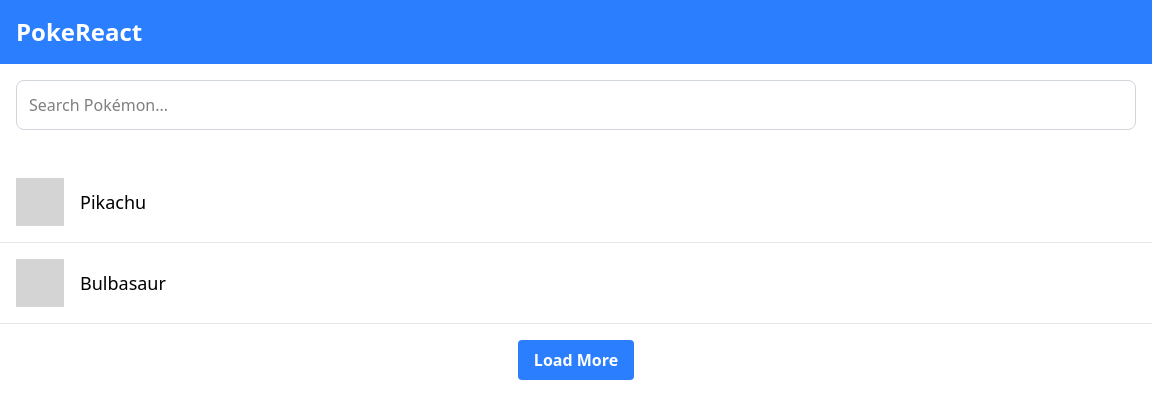
Test case: PokemonList Component › filters Pokémon based on search term
# Type into the search input
Step 1. Type "pikachu" into the field with test id "search-input" → (576, 105), box [16,80,1136,130]
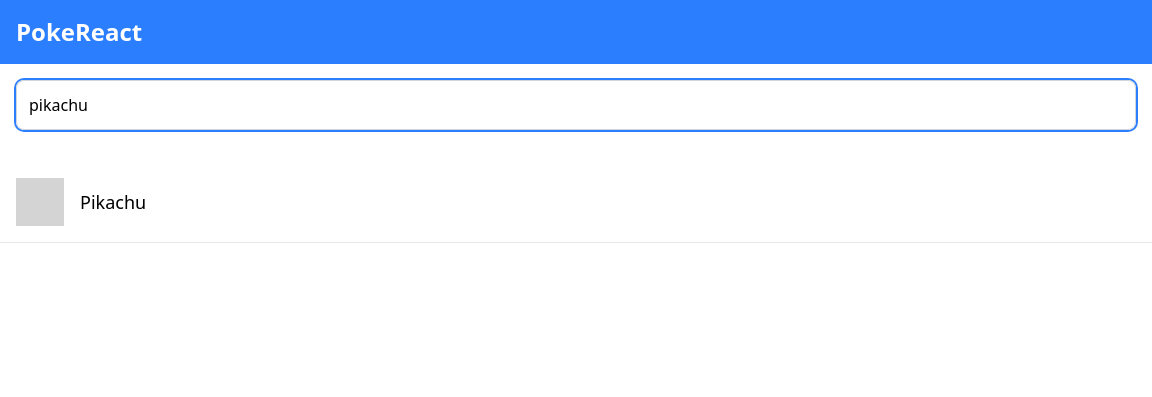
Expected: the text "pikachu" is shown, [80,188,146,216]
Expected: the text "bulbasaur" is gone
